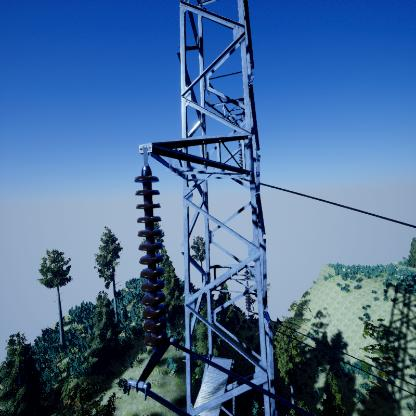insulator: (130, 170, 174, 349)
